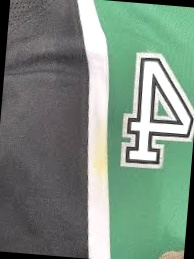mustard: (90, 121, 109, 180)
